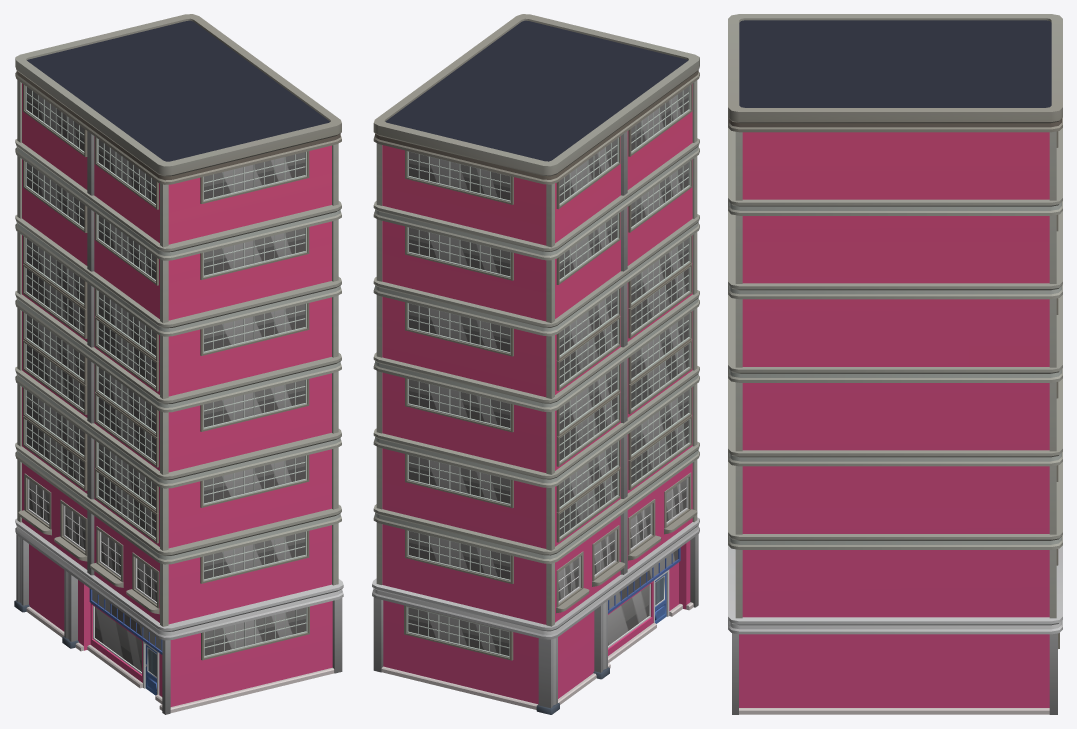
File: Building_11_5_C.glb
The picture shows the model from 3 angles, left to right: view 1: azimuth 30°, elevation 25°; view 2: azimuth 150°, elevation 25°; view 3: azimuth 270°, elevation 25°; orthographic projection. The views are drawn at different scales.
Parts seen in each view (by area): view 1: Building_11_5_C; view 2: Building_11_5_C; view 3: Building_11_5_C.
Part boxes in pixels (x1,y1,x2,y2): Building_11_5_C: [14, 14, 343, 714]; Building_11_5_C: [372, 14, 699, 714]; Building_11_5_C: [728, 14, 1062, 714].
Bounding box in the file's own units: 8.27 × 23.14 × 11.63.
3 materials, 3 textured.
